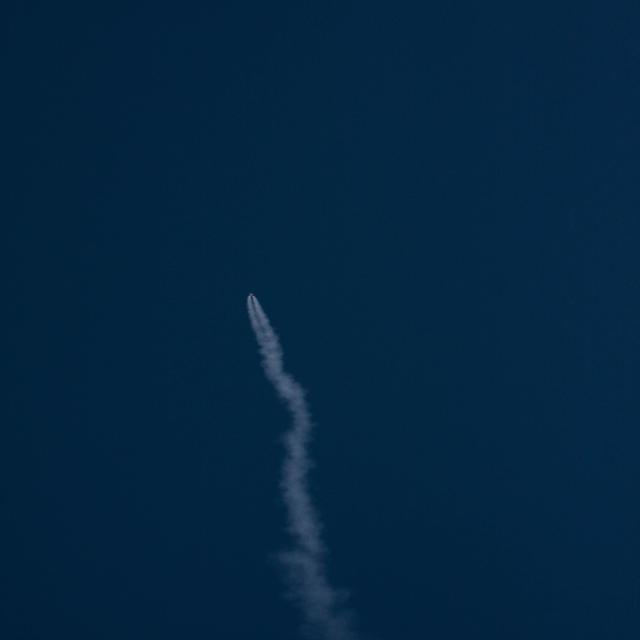Rocket: (248, 292, 256, 296)
